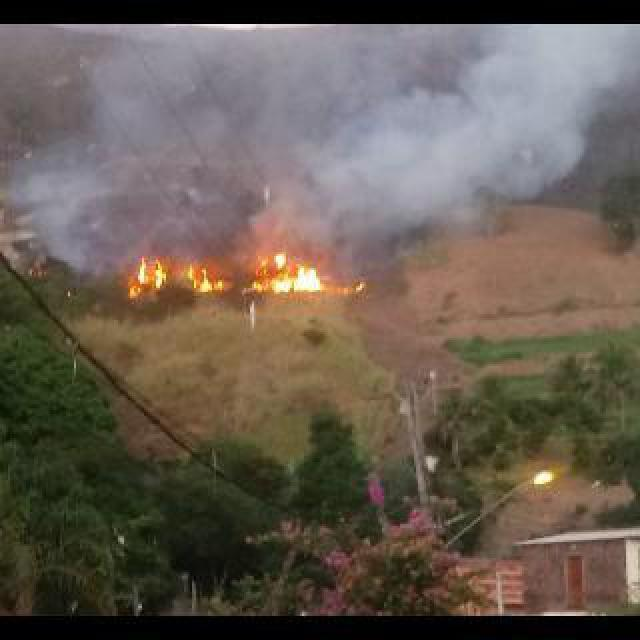Fire: (125, 246, 326, 298)
Smoke: (0, 25, 640, 245)
